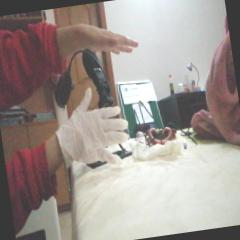gloved: (51, 82, 135, 173)
not-gloved: (60, 15, 140, 64)
